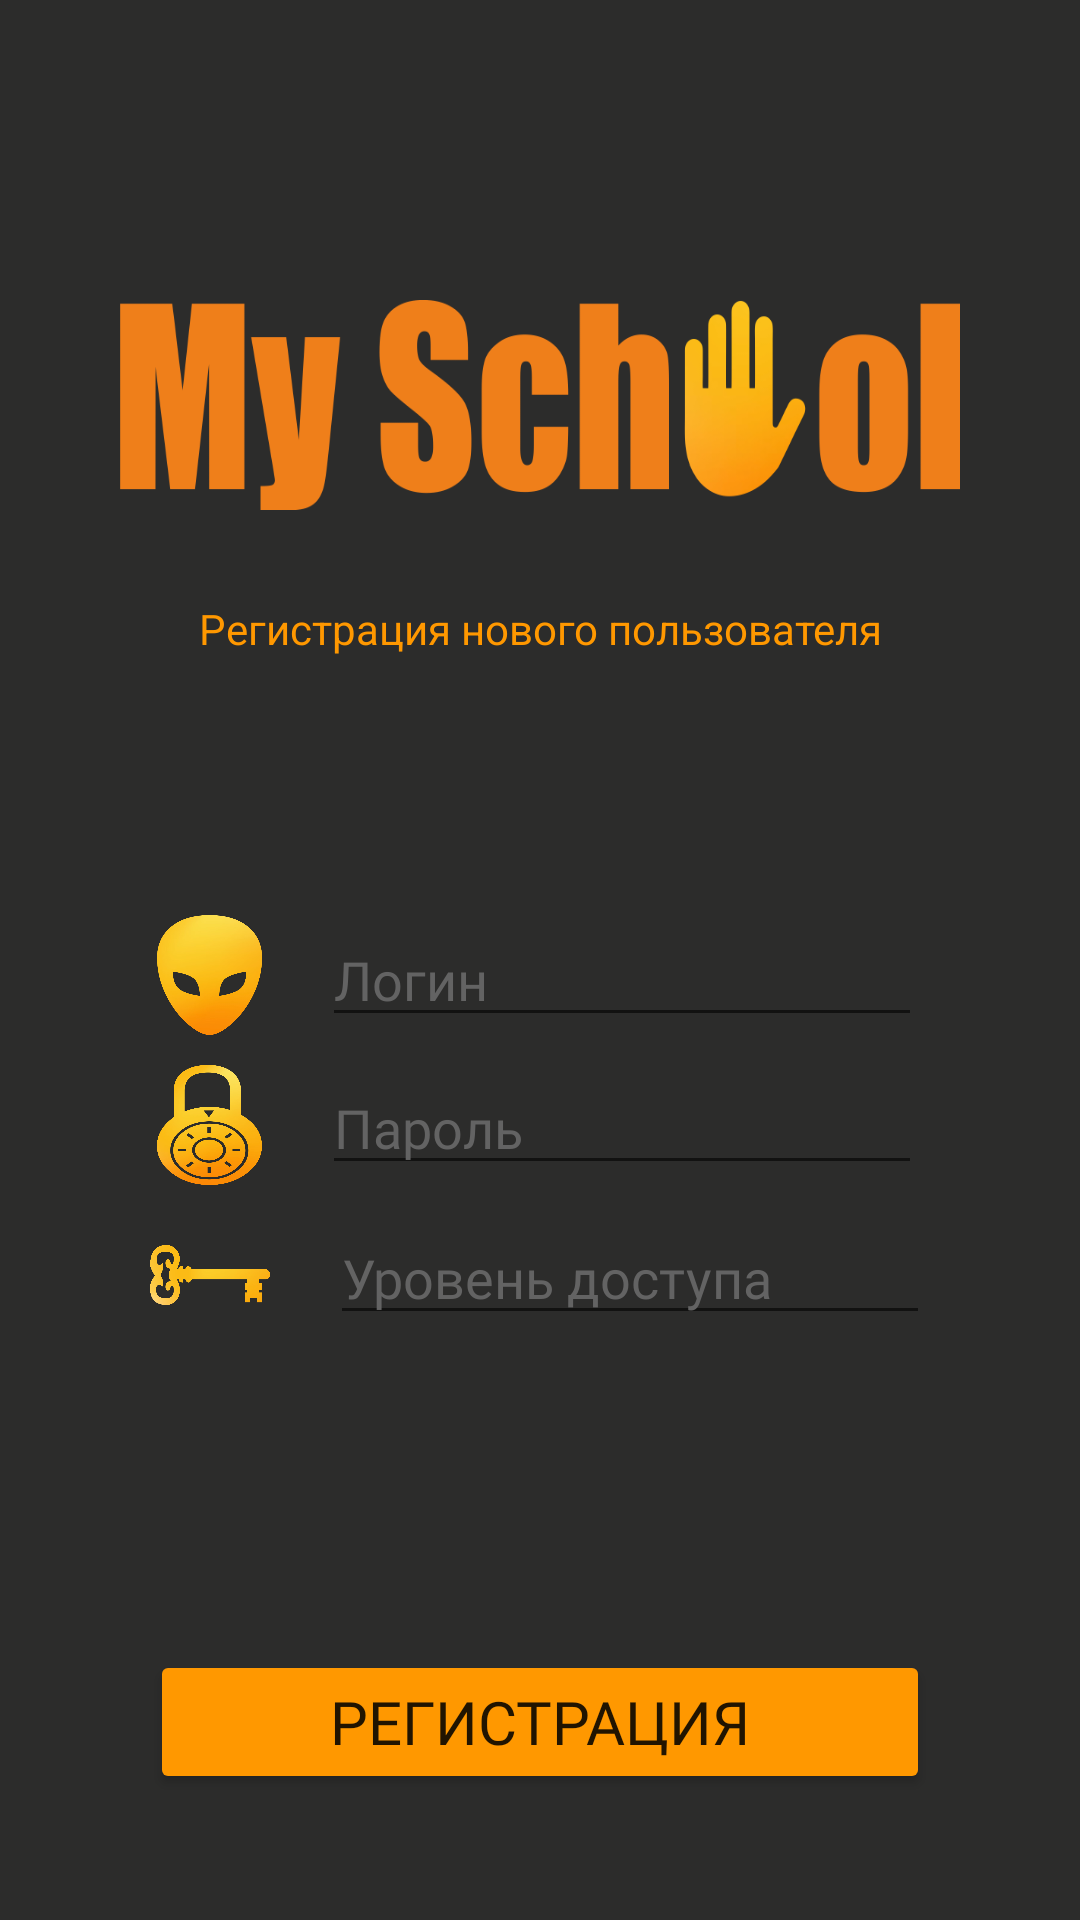

Point at icon controls on the screen. Image size 1080 × 1920, points as point (x, y).
key: point (210, 1275)
lock two: point (209, 1125)
